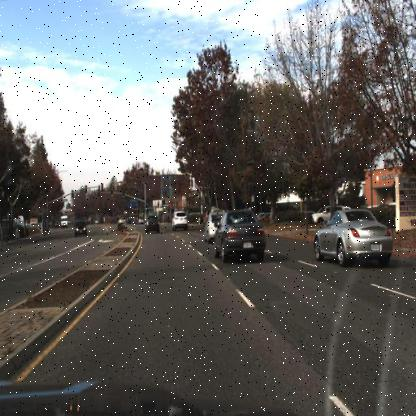car: (311, 204, 401, 270), (212, 204, 266, 260), (202, 203, 223, 253), (203, 206, 224, 242), (141, 208, 162, 236), (170, 207, 192, 233), (310, 202, 336, 224), (74, 220, 86, 236)
truck: (58, 211, 70, 228)
